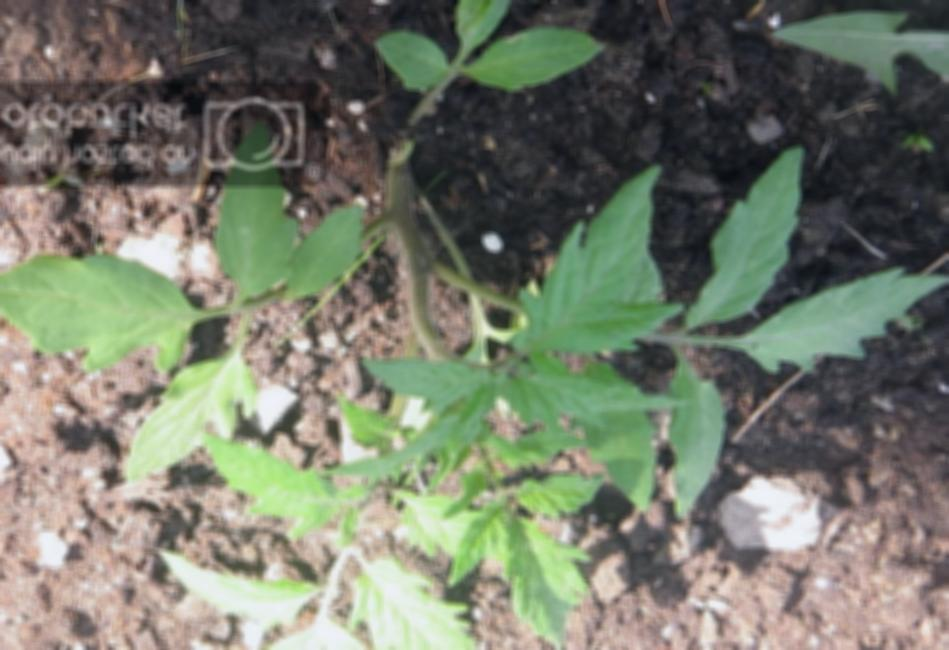Tomato leaf: (523, 155, 674, 360), (0, 238, 199, 369), (729, 260, 949, 378), (195, 115, 310, 303), (111, 346, 256, 492), (189, 426, 338, 531), (340, 555, 488, 650), (501, 502, 589, 640), (504, 361, 687, 427), (670, 350, 736, 523), (459, 28, 611, 99), (283, 186, 371, 297), (385, 487, 494, 560), (375, 342, 507, 402), (359, 33, 463, 102), (441, 493, 510, 581), (508, 470, 607, 512), (450, 0, 519, 52)
